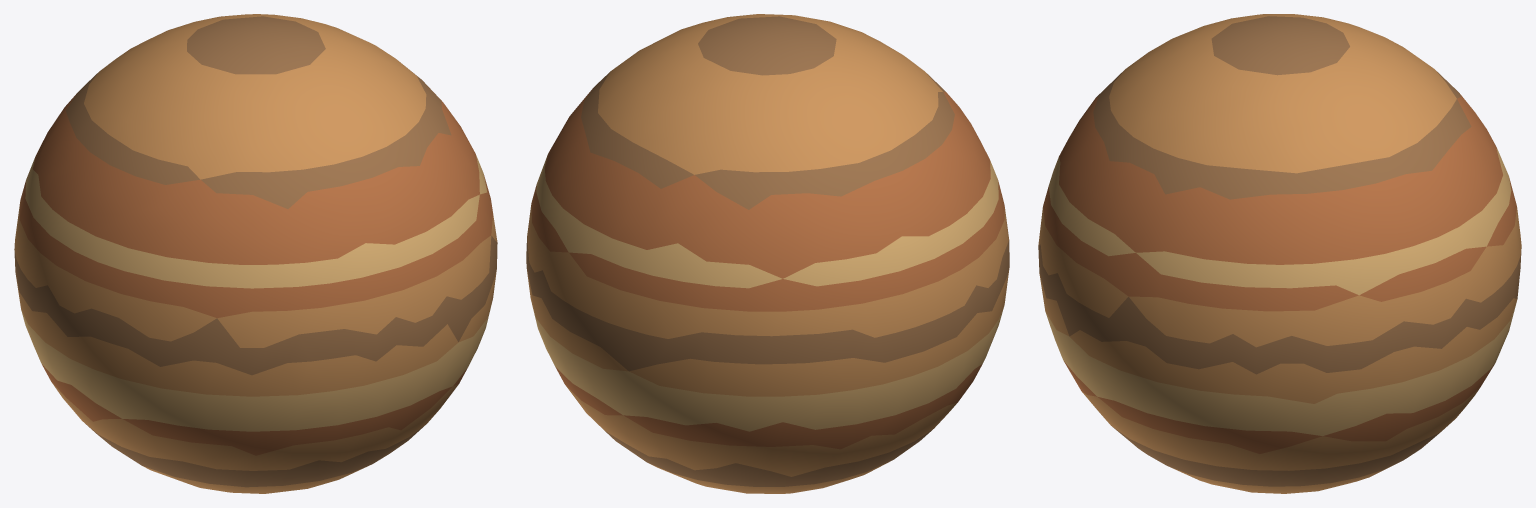
The model's file is PlanetB-transformed.glb.
The picture shows the model from 3 angles, left to right: view 1: azimuth 30°, elevation 25°; view 2: azimuth 150°, elevation 25°; view 3: azimuth 270°, elevation 25°; orthographic projection.
Visible parts, largest first — view 1: Planet_6; view 2: Planet_6; view 3: Planet_6.
Boxes of the visible parts, box(x1,y1,x2,y2) form: Planet_6: box(14, 14, 497, 493); Planet_6: box(526, 14, 1009, 493); Planet_6: box(1038, 14, 1521, 493).
Size of the model in its own units: 16.84 by 16.79 by 16.84.
1 material, 1 textured.
